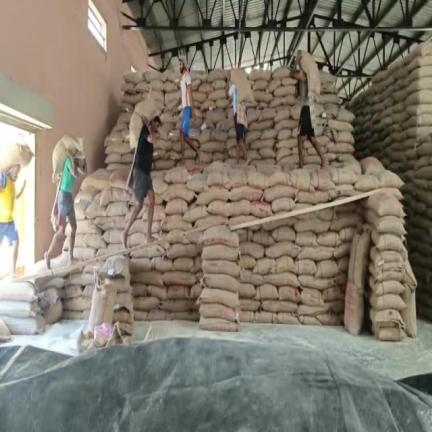Zone-Counting: (122, 99, 161, 247), (45, 136, 86, 268), (0, 144, 32, 275), (290, 50, 325, 167), (228, 69, 254, 163)
